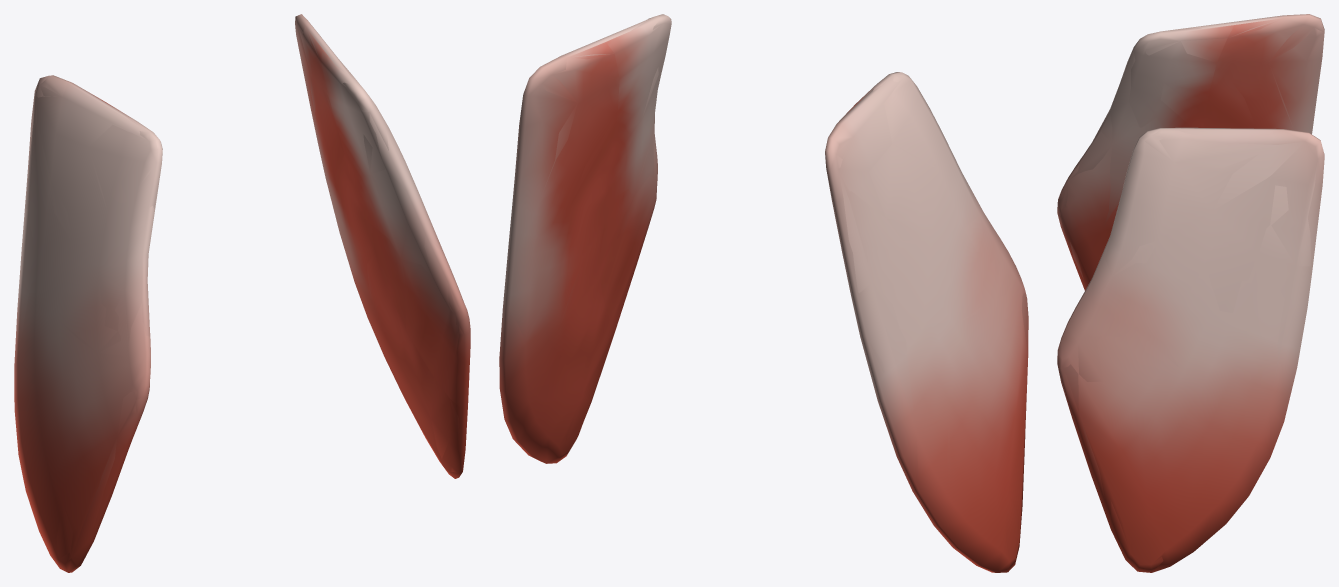
The model's file is Obliquus capitis cranialis.fbx.
The picture shows the model from 3 angles, left to right: view 1: azimuth 30°, elevation 25°; view 2: azimuth 150°, elevation 25°; view 3: azimuth 270°, elevation 25°; orthographic projection. The views are drawn at different scales.
Parts seen in each view (by area): view 1: Obliquus capitis cranialis, Obliquus capitis cranialis low; view 2: Obliquus capitis cranialis, Obliquus capitis cranialis low; view 3: Obliquus capitis cranialis, Obliquus capitis cranialis low.
Part boxes in pixels (x1,y1,x2,y2): Obliquus capitis cranialis: (14, 14, 470, 572); Obliquus capitis cranialis low: (14, 16, 469, 572); Obliquus capitis cranialis: (499, 14, 1028, 572); Obliquus capitis cranialis low: (499, 14, 1028, 563); Obliquus capitis cranialis: (1057, 14, 1324, 572); Obliquus capitis cranialis low: (1057, 14, 1324, 572).
Size of the model in its own units: 4.19 by 4.22 by 2.51.
Materials: 1 (1 with a texture image).
